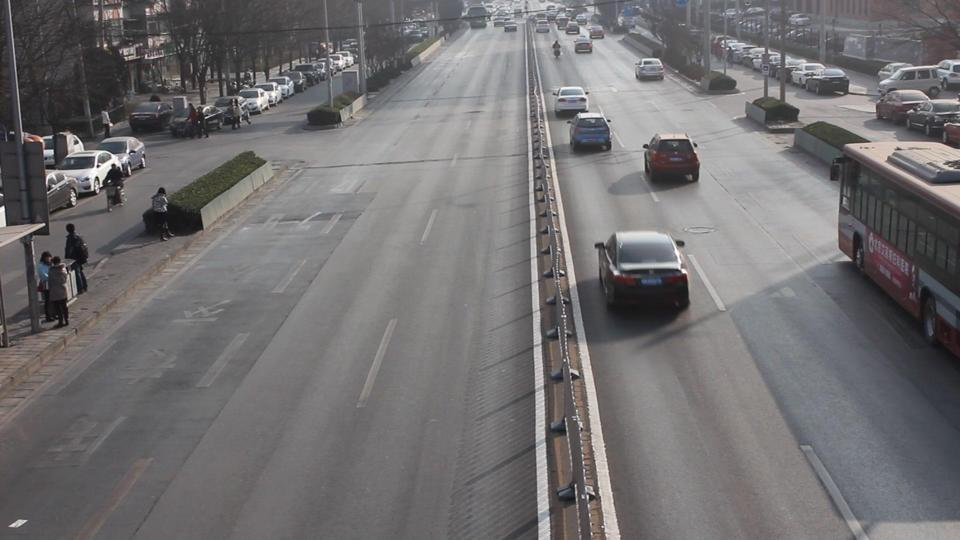car: (594, 229, 691, 311), (642, 131, 701, 184), (58, 150, 118, 196), (877, 65, 948, 99), (906, 97, 960, 136), (873, 89, 932, 124), (96, 136, 147, 174), (569, 113, 613, 154), (791, 64, 848, 94), (41, 131, 85, 169), (167, 98, 206, 139), (128, 100, 176, 132), (203, 96, 246, 130), (46, 170, 79, 214), (554, 86, 589, 118), (291, 62, 325, 87), (238, 88, 268, 114), (635, 57, 665, 81), (254, 82, 281, 105), (272, 76, 296, 100), (942, 120, 960, 147), (574, 35, 593, 54)
